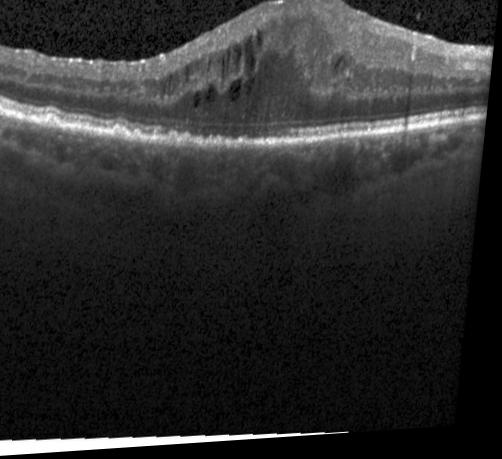intraretinal_cyst: (245, 38, 257, 78), (234, 47, 244, 78), (231, 83, 243, 105), (209, 88, 219, 106), (249, 81, 257, 99), (257, 32, 264, 52), (336, 60, 345, 74), (196, 94, 203, 111), (228, 52, 232, 80), (186, 69, 192, 85), (163, 84, 168, 102), (170, 77, 174, 97), (223, 58, 226, 84), (209, 63, 213, 74)
